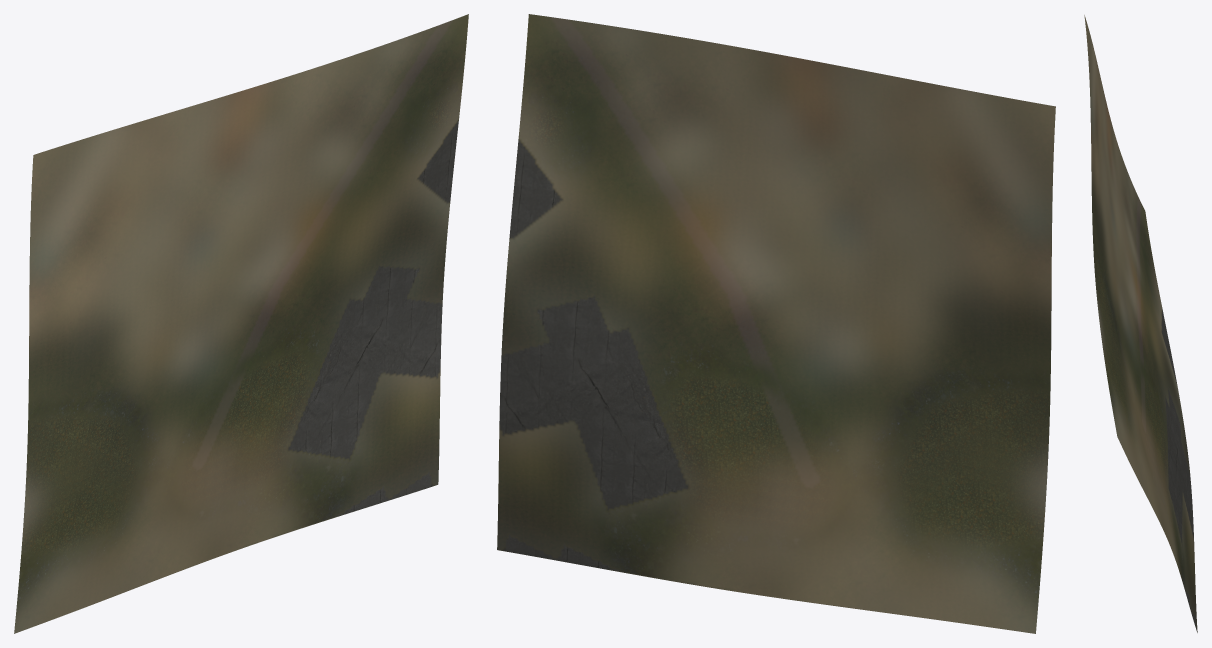
Rendered from ground_core_02_00.obj.
3 views of the same model, side by side, from view 1: azimuth 30°, elevation 25°; view 2: azimuth 150°, elevation 25°; view 3: azimuth 270°, elevation 25° (orthographic). The views are drawn at different scales.
Visible parts, largest first — view 1: ground_core_02_00; view 2: ground_core_02_00; view 3: ground_core_02_00.
Part boxes in pixels (left/top/right/bottom): ground_core_02_00: left=14, top=14, right=468, bottom=633; ground_core_02_00: left=497, top=14, right=1055, bottom=633; ground_core_02_00: left=1084, top=15, right=1197, bottom=632.
Bounding box in the file's own units: 50 × 50 × 12.15.
1 material, 1 textured.
